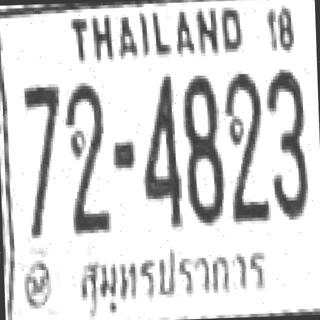N02: (224, 74, 269, 223), (64, 82, 108, 232)
N03: (266, 68, 309, 220)
N04: (140, 73, 184, 230)
N07: (22, 83, 64, 237)
N08: (182, 73, 226, 226)
P57: (72, 242, 266, 312)
